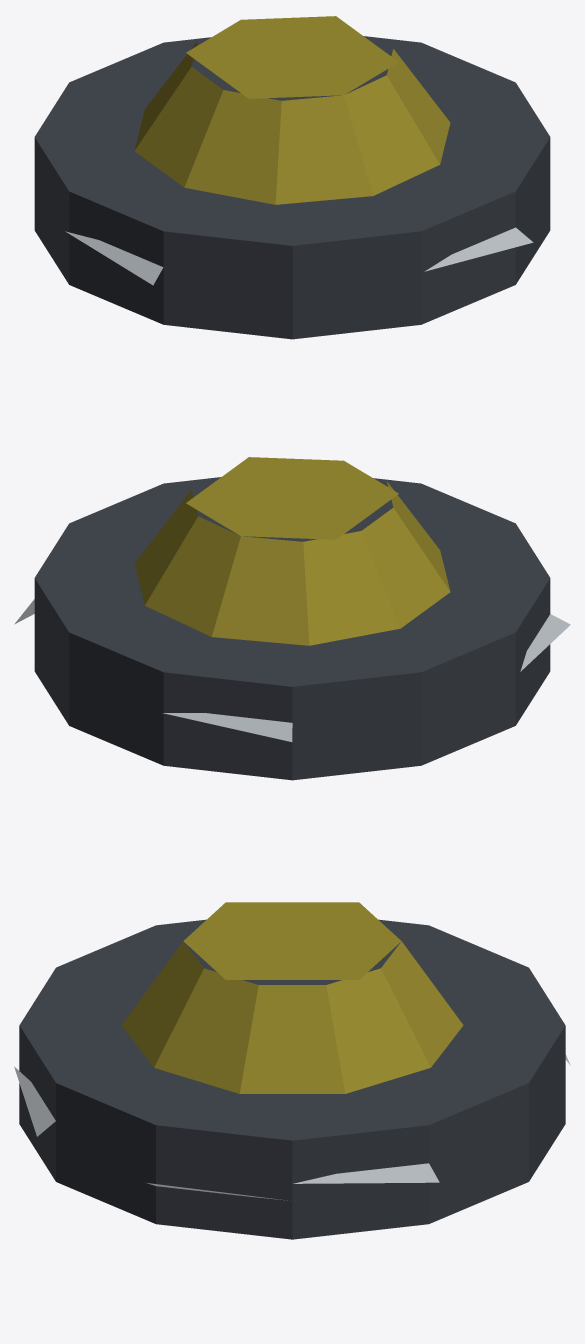
Rendered from mine-fragmentation.lod.glb.
The picture shows the model from 3 angles, top to bottom: view 1: azimuth 30°, elevation 25°; view 2: azimuth 150°, elevation 25°; view 3: azimuth 270°, elevation 25°; orthographic projection. The views are drawn at different scales.
Visible parts, largest first — view 1: m; view 2: m; view 3: m.
Part boxes in pixels (box(x1,y1,x2,y2)): m: box(34, 16, 550, 339); m: box(14, 457, 570, 780); m: box(14, 902, 570, 1239).
Size of the model in its own units: 0.0944 by 0.0519 by 0.0944.
